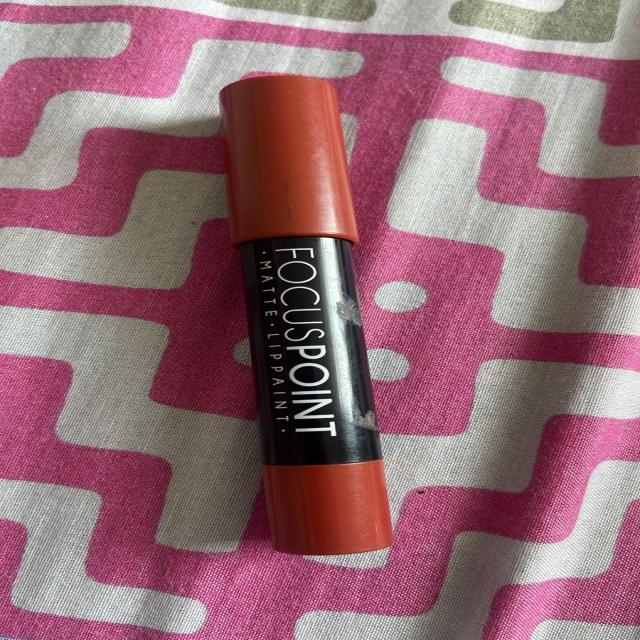lip liner: (168, 54, 434, 576)
